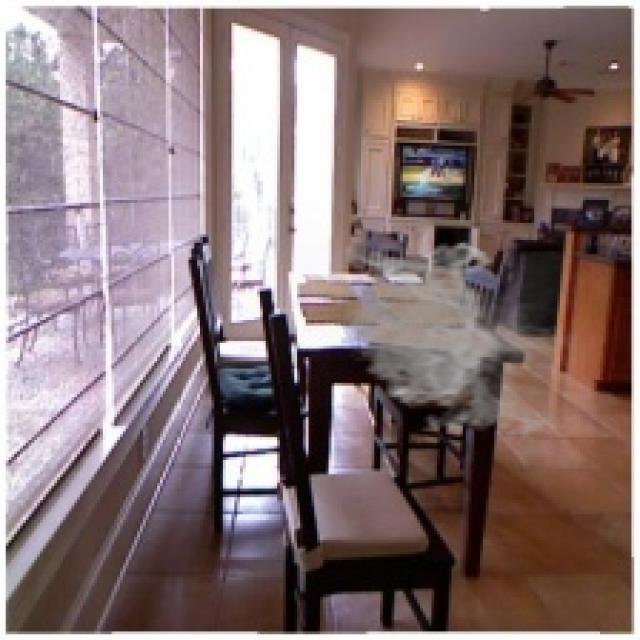Smoke: (337, 237, 577, 443)
